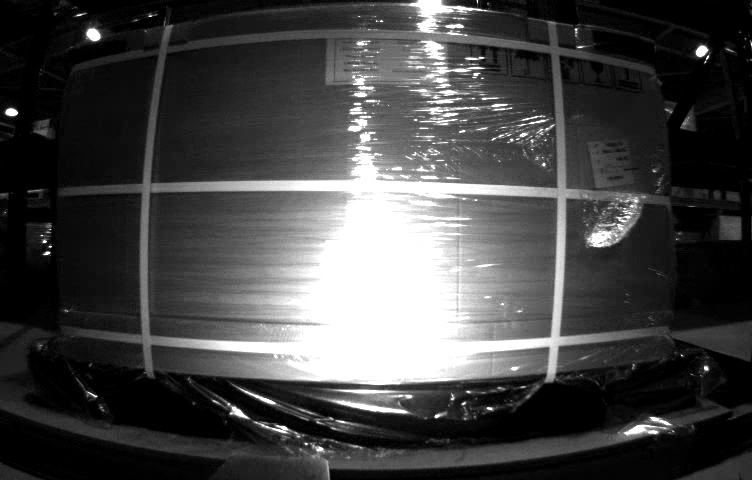True Barcode: (587, 134, 639, 189)
